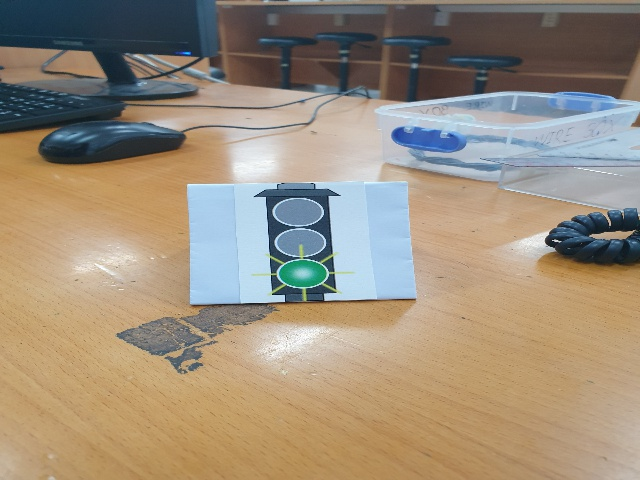Green Light: (243, 182, 363, 302)
